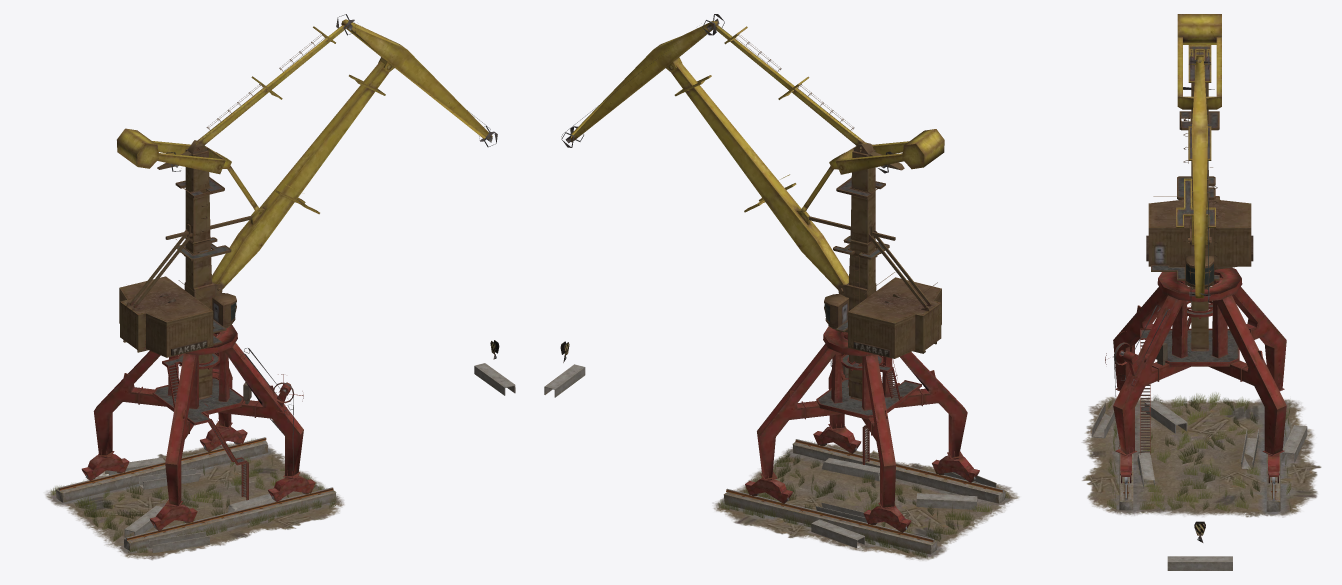
Rendered from port-crane.zfix-v14.lod0.glb.
The picture shows the model from 3 angles, left to right: view 1: azimuth 30°, elevation 25°; view 2: azimuth 150°, elevation 25°; view 3: azimuth 270°, elevation 25°; orthographic projection. The views are drawn at different scales.
Parts seen in each view (by area): view 1: Crane_anim_7_Body_0, Decor_anim_1_Decor_0, Details_anim_23_Details_0; view 2: Crane_anim_7_Body_0, Decor_anim_1_Decor_0, Details_anim_23_Details_0; view 3: Crane_anim_7_Body_0, Decor_anim_1_Decor_0, Details_anim_23_Details_0.
Part boxes in pixels (<box>): Crane_anim_7_Body_0: <box>81,14,499,530</box>; Decor_anim_1_Decor_0: <box>45,363,515,560</box>; Details_anim_23_Details_0: <box>135,26,490,500</box>; Crane_anim_7_Body_0: <box>560,14,979,532</box>; Decor_anim_1_Decor_0: <box>544,364,1019,560</box>; Details_anim_23_Details_0: <box>561,26,937,464</box>; Crane_anim_7_Body_0: <box>1113,14,1286,542</box>; Decor_anim_1_Decor_0: <box>1082,393,1321,570</box>; Details_anim_23_Details_0: <box>1105,45,1239,454</box>.
Bounding box in the file's own units: 42.64 × 41.97 × 19.57.
3 materials, 3 textured.
